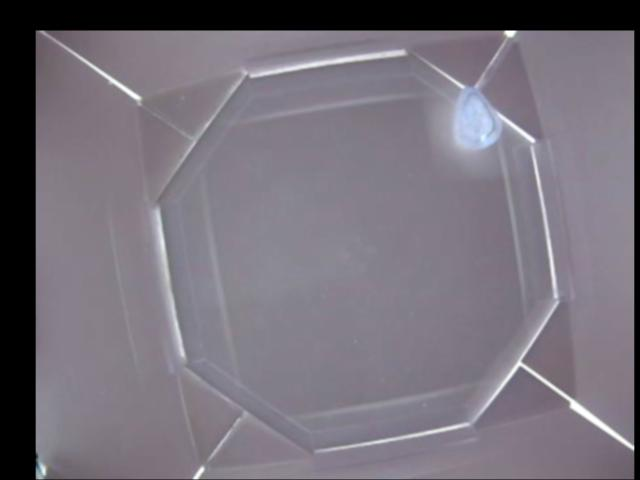Pebble: (453, 82, 501, 151)
